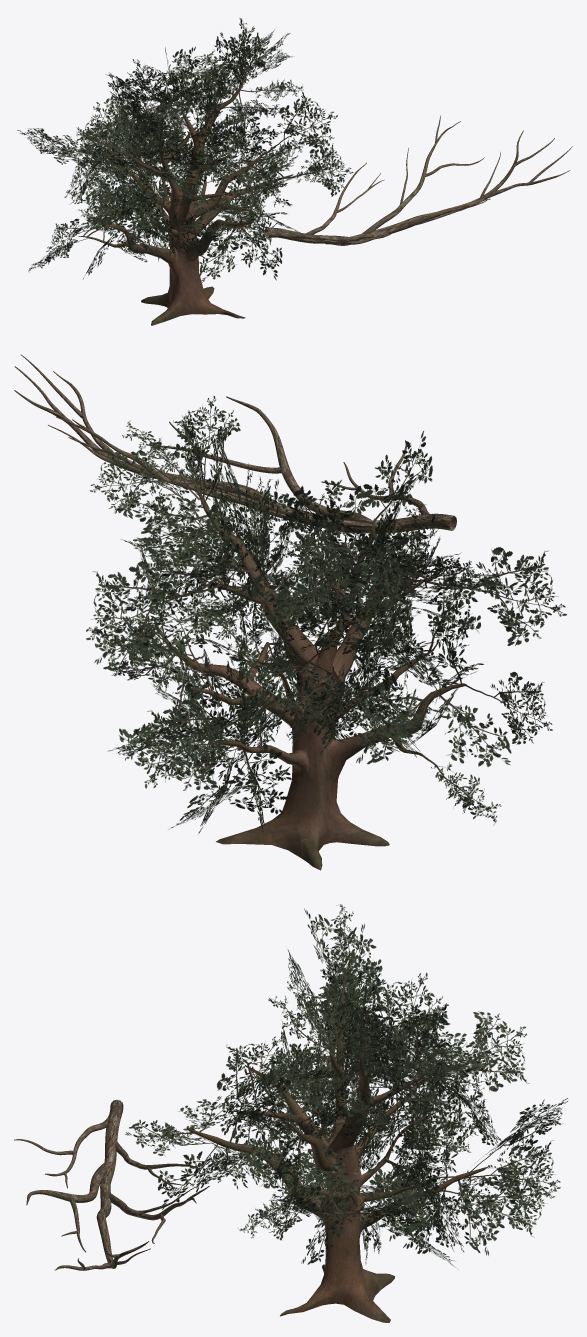
File: oak_tree_user_1.glb
3 renders of one model, top to bottom at view 1: azimuth 30°, elevation 25°; view 2: azimuth 150°, elevation 25°; view 3: azimuth 270°, elevation 25°, orthographic. The views are drawn at different scales.
Parts seen in each view (by area): view 1: Object_3, BezierCurve; view 2: Object_3, BezierCurve; view 3: Object_3, BezierCurve.
Boxes of the visible parts, x1,y1,x2,y2 form: Object_3: (17,18,353,325); BezierCurve: (264,115,572,245); Object_3: (86,395,566,870); BezierCurve: (14,354,456,533); Object_3: (125,904,567,1322); BezierCurve: (14,1099,209,1270).
Size of the model in its own units: 26.59 by 15.7 by 22.34.
Materials: 3 (3 with a texture image).
